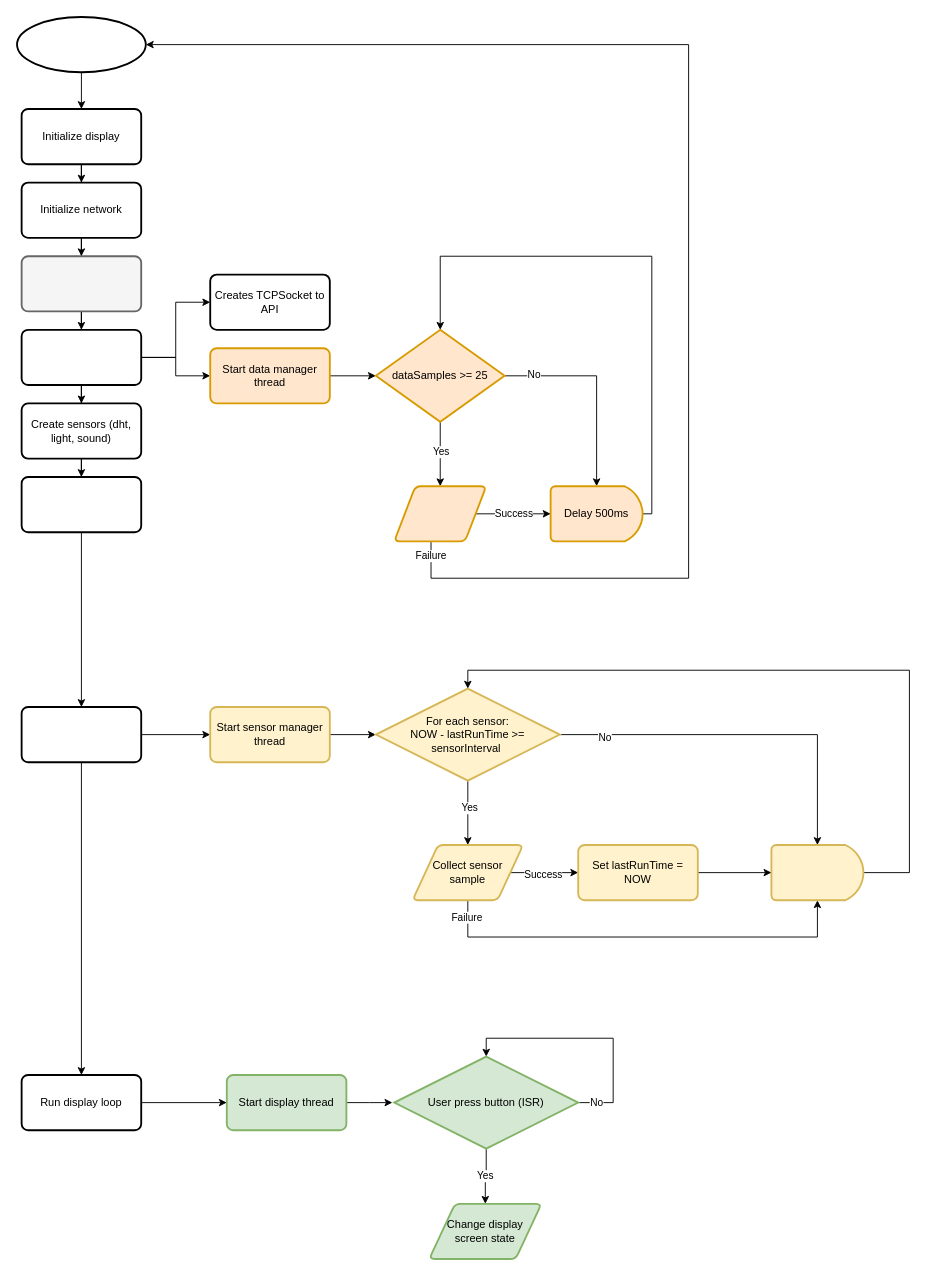
The diagram is 933 pixels wide and 1275 high, and some of its shapes have lost their labels. The shapes that lost their labels are listed below. From the top down, each one's box as (x1, y1, x2, y2) in pixels, then its label:
(16, 16, 146, 73): Main.cpp
(20, 255, 142, 312): Initialize RTC
(20, 328, 142, 385): Create DataManager & SensorManager
(20, 476, 142, 533): Add sensors to SensorManager
(393, 485, 487, 542): Push data to API
(20, 706, 142, 763): Run sensor manager
(770, 844, 864, 901): Delay 1ms
